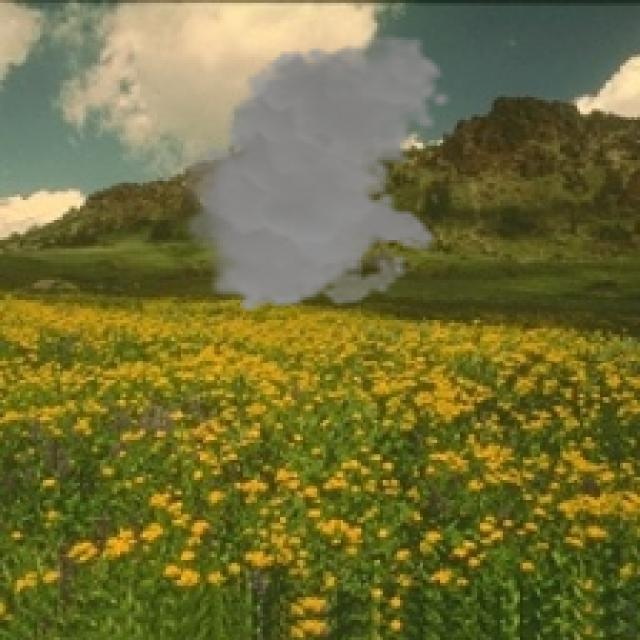smoke: (172, 34, 452, 314)
